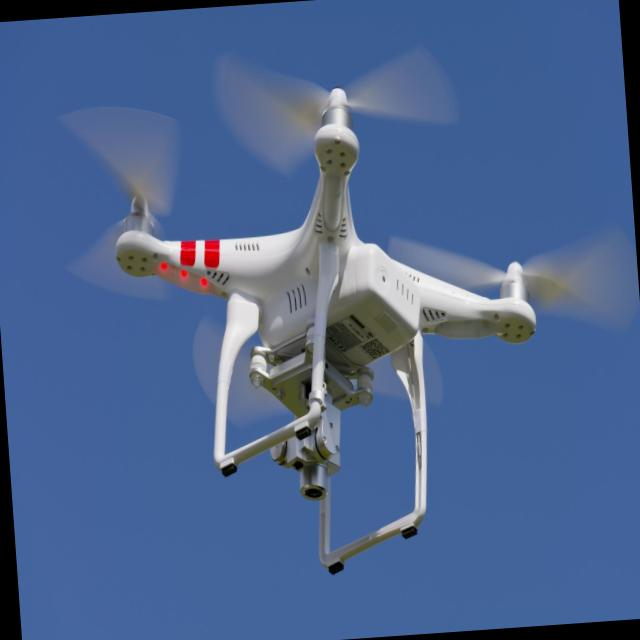drone: (103, 75, 554, 588)
